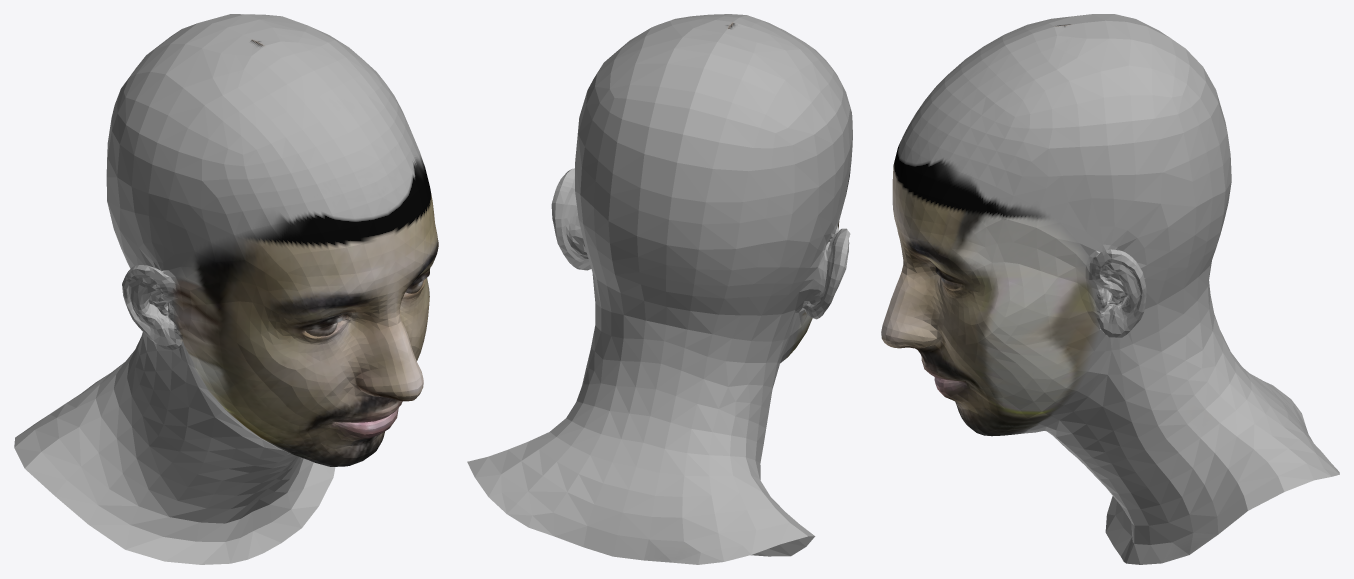
File: ezgif-frame-030.obj
3 views of the same model, side by side, from view 1: azimuth 30°, elevation 25°; view 2: azimuth 150°, elevation 25°; view 3: azimuth 270°, elevation 25° (orthographic). The views are drawn at different scales.
Bounding box in the file's own units: 0.205 × 0.3274 × 0.264.
Materials: 1 (1 with a texture image).
